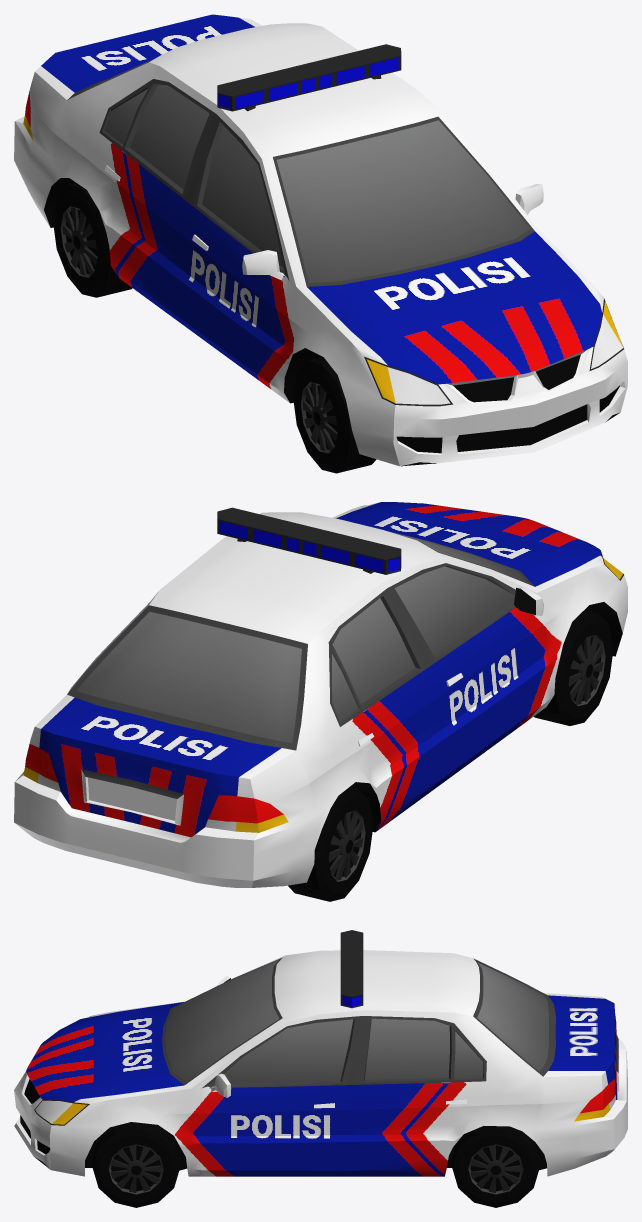
File: polisi sedan.fbx
The picture shows the model from 3 angles, top to bottom: view 1: azimuth 30°, elevation 25°; view 2: azimuth 150°, elevation 25°; view 3: azimuth 270°, elevation 25°; orthographic projection. The views are drawn at different scales.
Parts seen in each view (by area): view 1: polisisedan, Cylinder.002, Cylinder.003; view 2: polisisedan, Cylinder.002, Cylinder.003; view 3: polisisedan, Cylinder, Cylinder.001.
Boxes of the visible parts, left/top/right/bottom form: polisisedan: left=14, top=14, right=627, bottom=466; Cylinder.002: left=293, top=357, right=376, bottom=473; Cylinder.003: left=53, top=183, right=132, bottom=297; polisisedan: left=14, top=502, right=627, bottom=887; Cylinder.002: left=534, top=610, right=613, bottom=725; Cylinder.003: left=288, top=787, right=373, bottom=901; polisisedan: left=14, top=930, right=627, bottom=1176; Cylinder: left=92, top=1122, right=179, bottom=1207; Cylinder.001: left=452, top=1126, right=539, bottom=1207.
Bounding box in the file's own units: 194 × 161 × 457.
